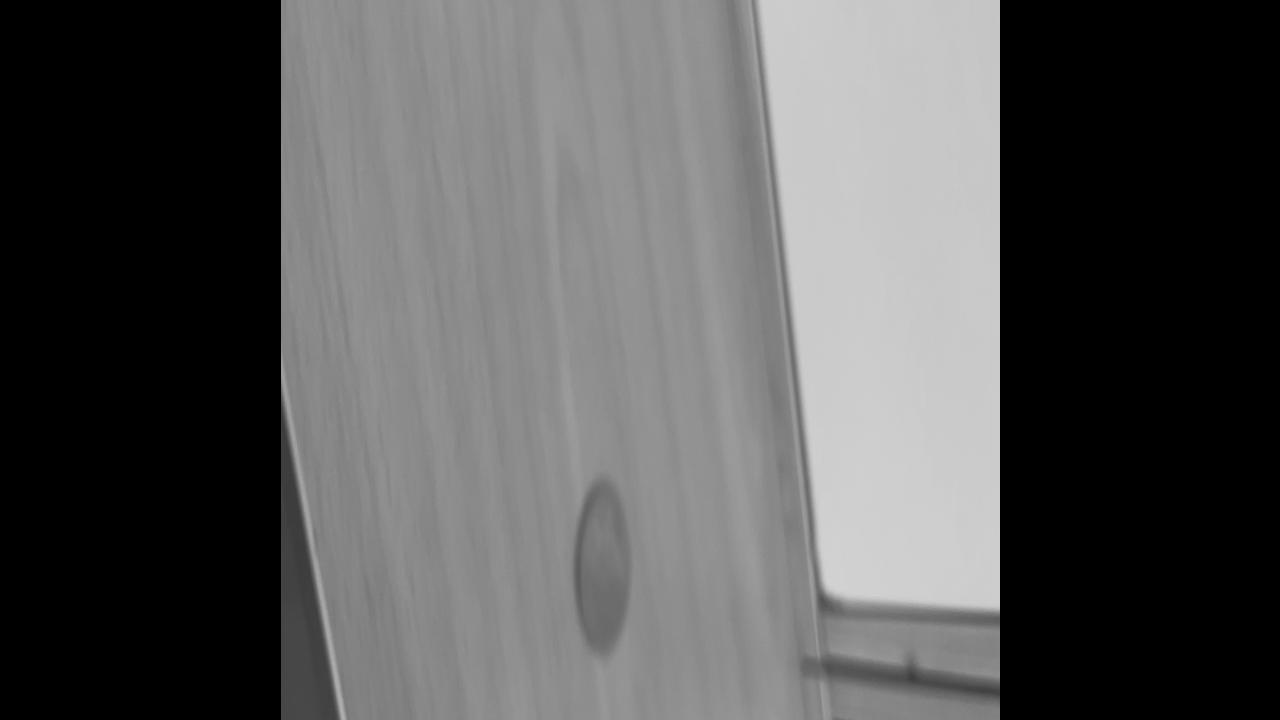coin: (574, 476, 633, 656)
